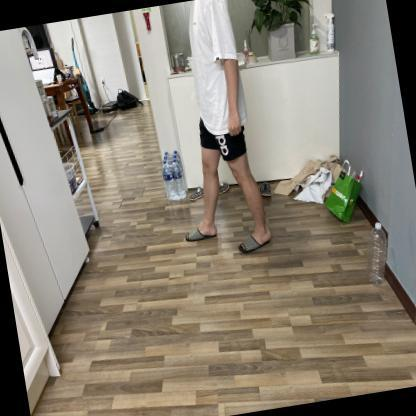no_safety-shoe: (234, 221, 282, 257), (178, 216, 224, 253)
